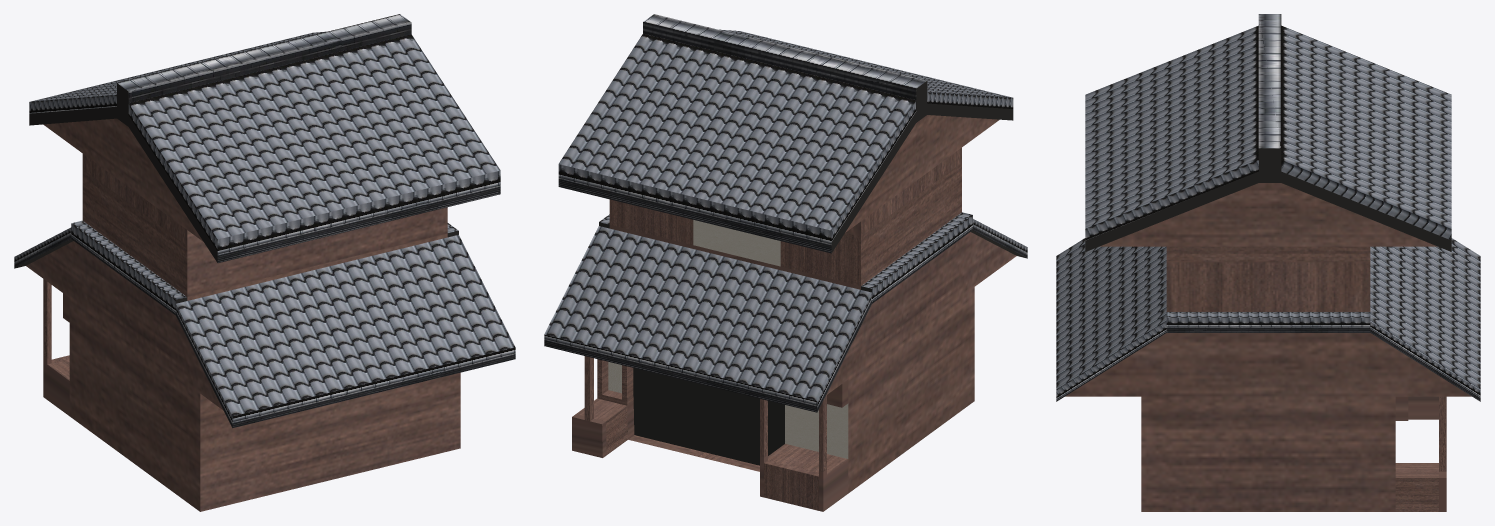
File: test_shoka.fbx
3 renders of one model, left to right at view 1: azimuth 30°, elevation 25°; view 2: azimuth 150°, elevation 25°; view 3: azimuth 270°, elevation 25°, orthographic. The views are drawn at different scales.
Visible parts, largest first — view 1: 立方体; view 2: 立方体; view 3: 立方体.
Part boxes in pixels (left/top/right/bottom): 立方体: left=14, top=14, right=515, bottom=511; 立方体: left=544, top=14, right=1027, bottom=511; 立方体: left=1056, top=14, right=1480, bottom=511.
Bounding box in the file's own units: 2501 × 3200 × 3337.
